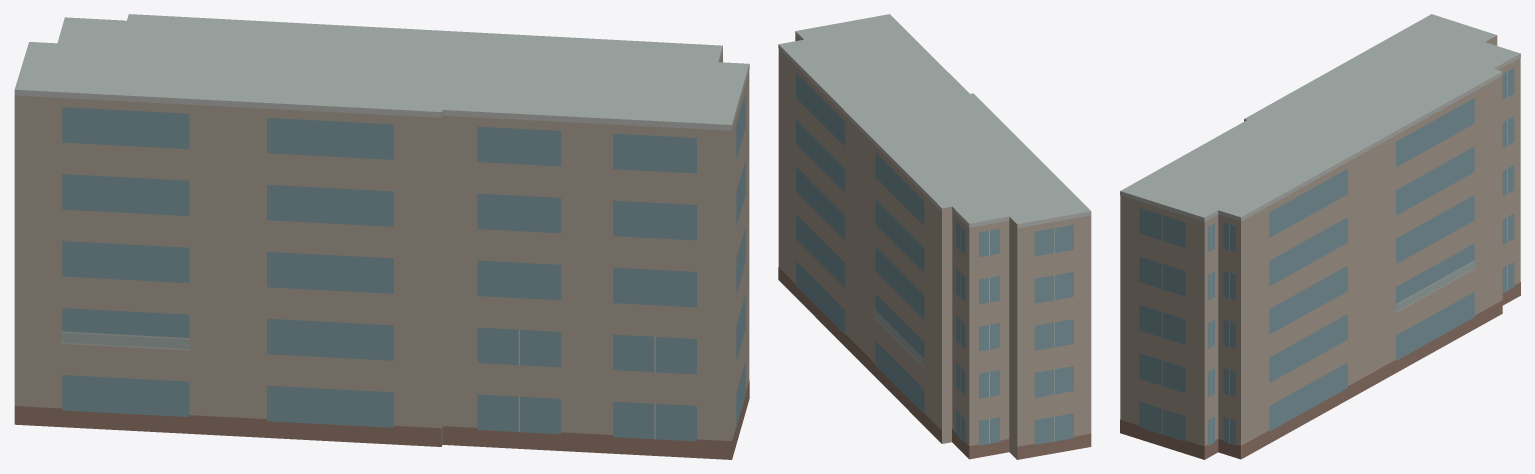
File: survey-upis-32872040.glb
3 views of the same model, side by side, from view 1: azimuth 30°, elevation 25°; view 2: azimuth 150°, elevation 25°; view 3: azimuth 270°, elevation 25° (orthographic). The views are drawn at different scales.
Parts seen in each view (by area): view 1: survey-upis-32872040.tmp; view 2: survey-upis-32872040.tmp; view 3: survey-upis-32872040.tmp.
Part boxes in pixels (box(x1,y1,x2,y2)): survey-upis-32872040.tmp: box(14, 14, 749, 459); survey-upis-32872040.tmp: box(778, 14, 1091, 459); survey-upis-32872040.tmp: box(1120, 14, 1520, 459).
Bounding box in the file's own units: 25.56 × 14.15 × 21.23.
